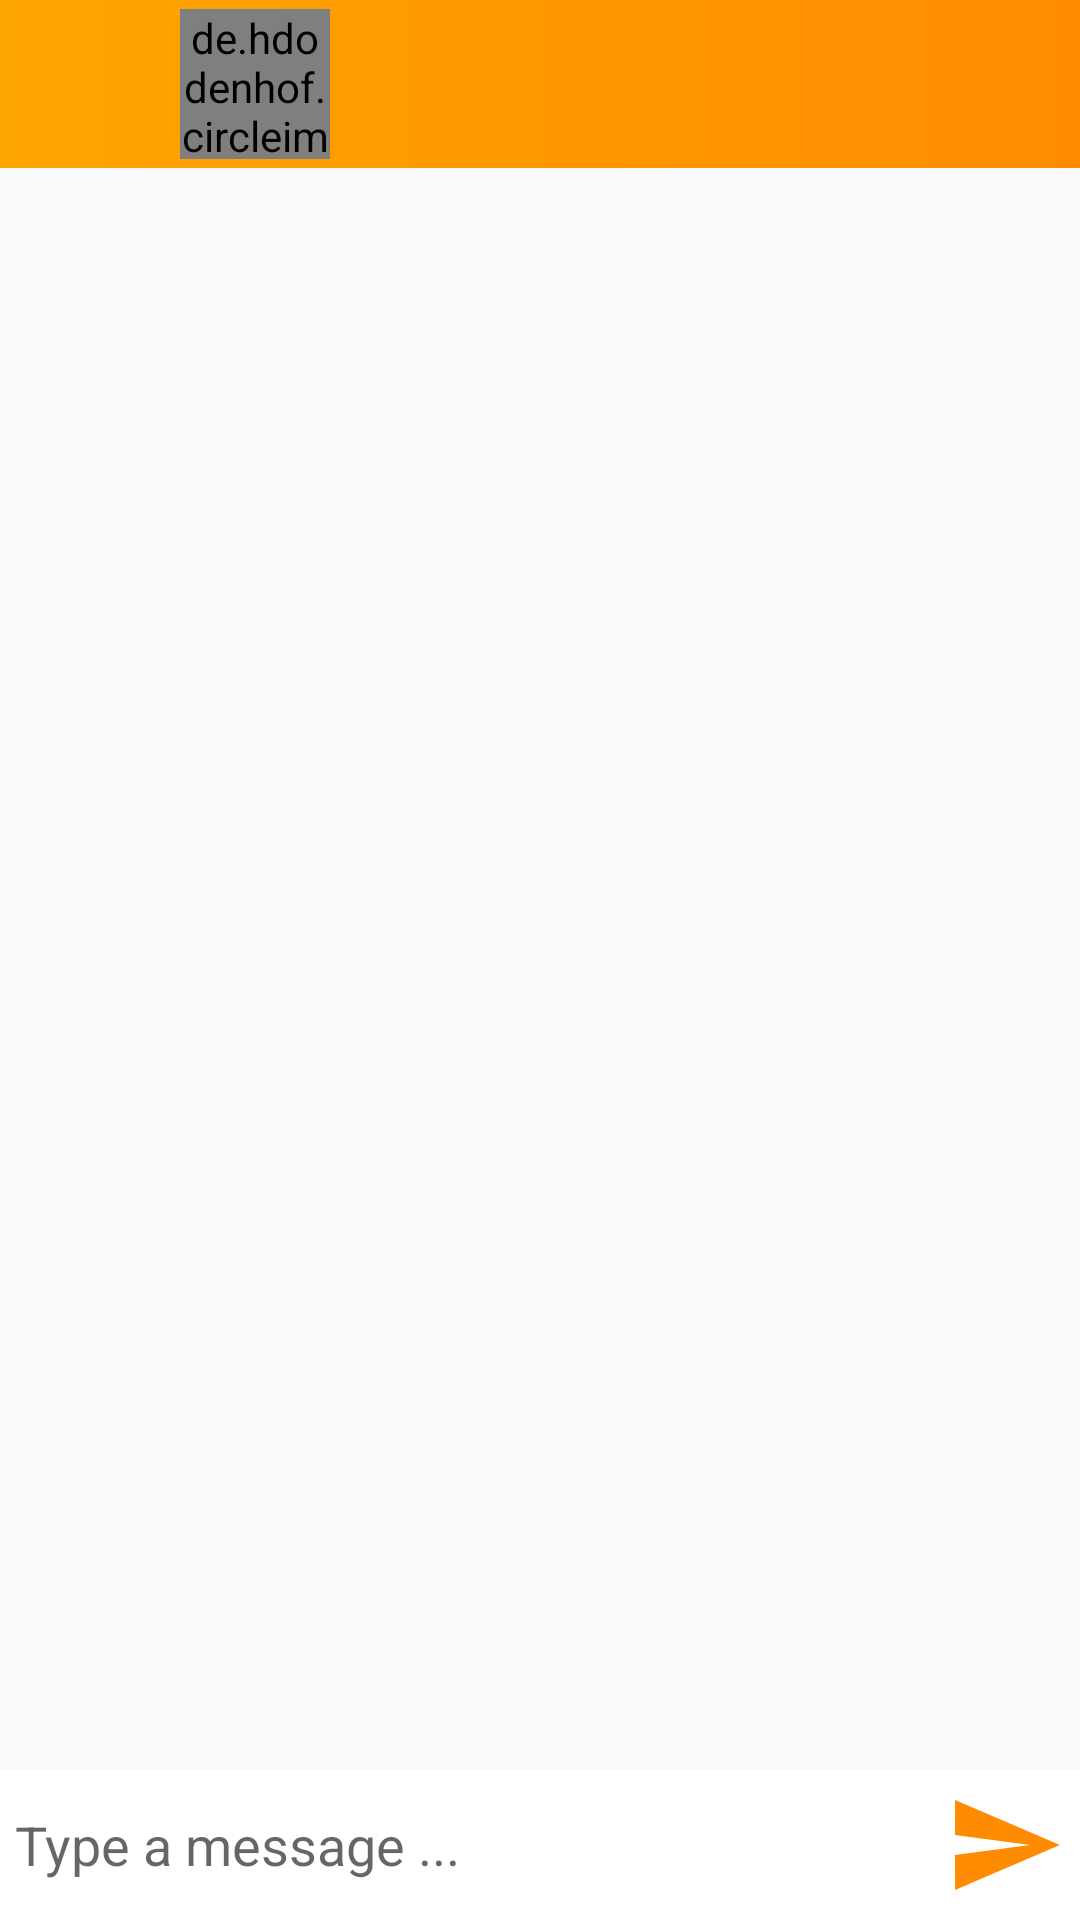

Screen size 1080 x 1920. Icon name, then its box in pixels as (x1, y1, x2, y2):
sentmessage: (955, 1800, 1060, 1890)
